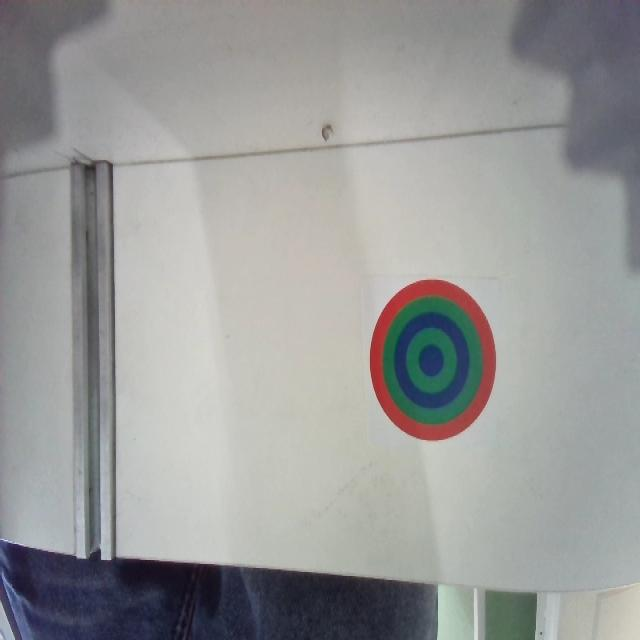cogn: (370, 278, 496, 443)
